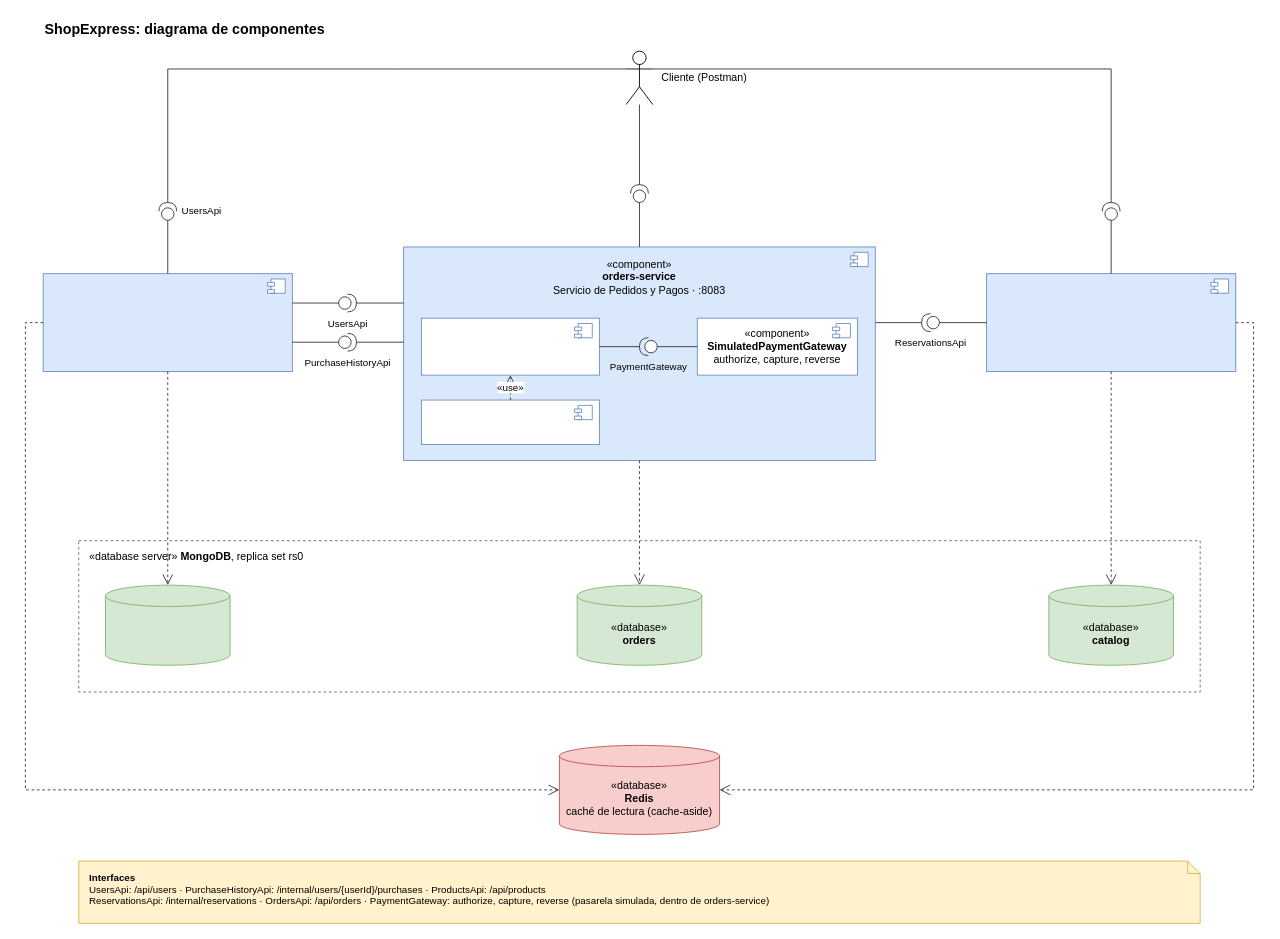
Some shapes in this 1280 by 939 pixel diagram are drawn without their labels. Here are the shapes that lost their labels. From the top down, the box of each, then its label:
(630, 184, 648, 202): OrdersApi
(1101, 202, 1120, 220): ProductsApi
(42, 273, 292, 372): «component» users-service Servicio de Usuarios :8081
(986, 273, 1236, 372): «component» catalog-service Servicio de Catálogo e Inventario :8082
(421, 317, 599, 375): «component» OrderOrchestrator
(421, 399, 599, 445): «component» SagaRecoveryJob
(105, 584, 230, 665): «database» users
